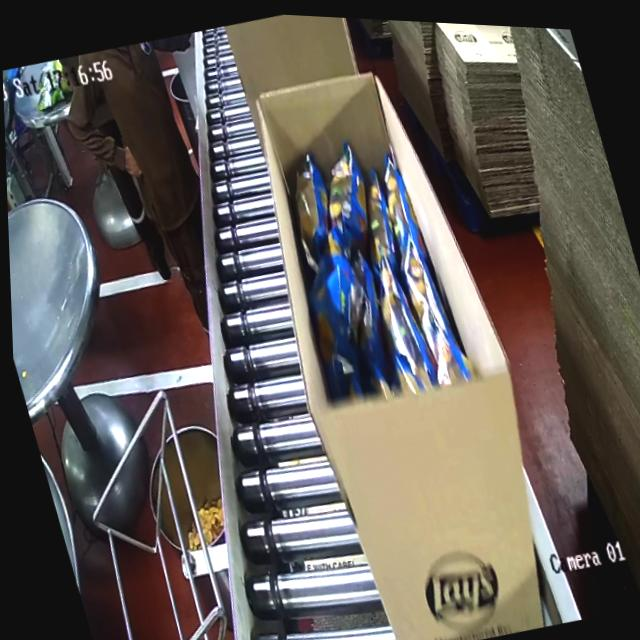PAPRIKA: (267, 108, 476, 410)
